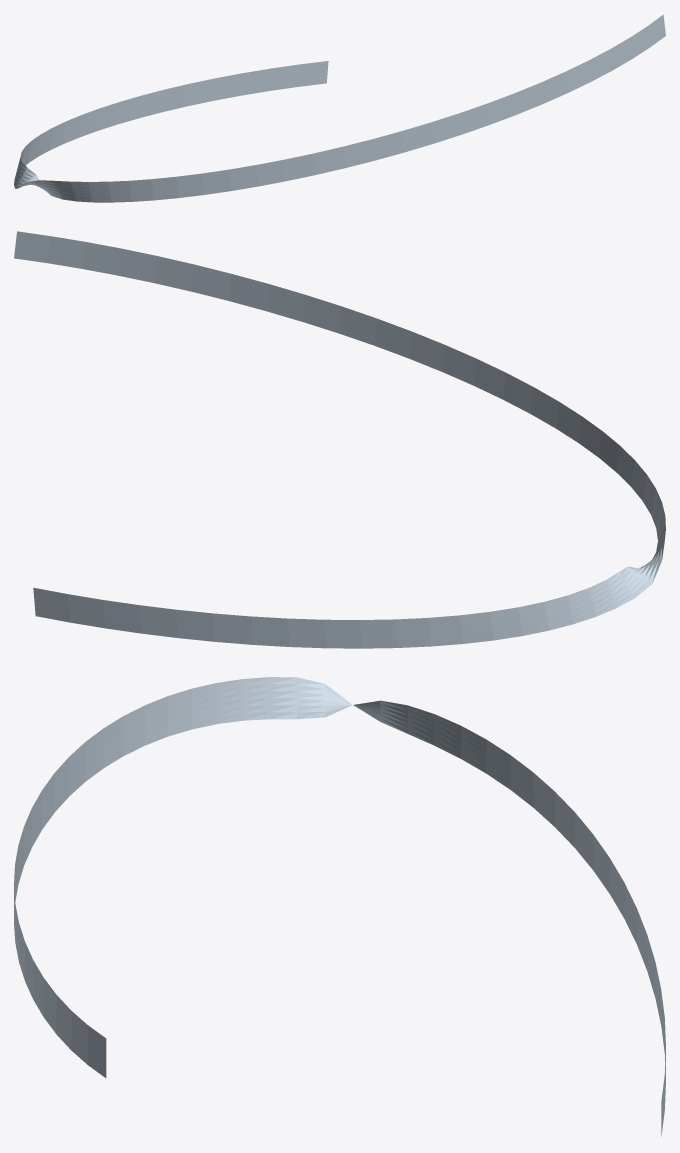
The model's file is 2084_WateryRebirth_Overall_OwnRebirthFlow_2.fbx.
3 renders of one model, top to bottom at view 1: azimuth 30°, elevation 25°; view 2: azimuth 150°, elevation 25°; view 3: azimuth 270°, elevation 25°, orthographic. The views are drawn at different scales.
Parts seen in each view (by area): view 1: PART_Hydro_OwnRebirthFlow_2; view 2: PART_Hydro_OwnRebirthFlow_2; view 3: PART_Hydro_OwnRebirthFlow_2.
Boxes of the visible parts, left/top/right/bottom form: PART_Hydro_OwnRebirthFlow_2: left=14, top=14, right=665, bottom=202; PART_Hydro_OwnRebirthFlow_2: left=14, top=231, right=665, bottom=648; PART_Hydro_OwnRebirthFlow_2: left=14, top=677, right=665, bottom=1136.
Size of the model in its own units: 190 by 45.36 by 108.
